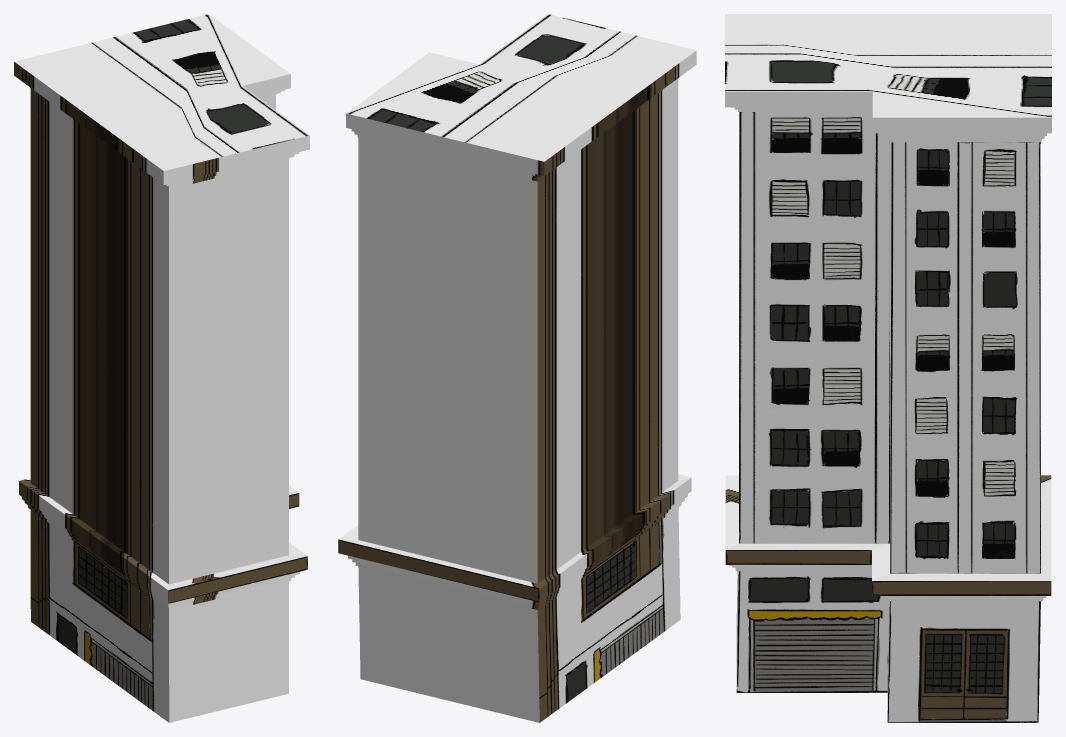
The model's file is predio1.glb.
3 views of the same model, side by side, from view 1: azimuth 30°, elevation 25°; view 2: azimuth 150°, elevation 25°; view 3: azimuth 270°, elevation 25° (orthographic). The views are drawn at different scales.
Visible parts, largest first — view 1: Cube; view 2: Cube; view 3: Cube.
Boxes of the visible parts, x1,y1,x2,y2 form: Cube: (14,14,309,722); Cube: (338,14,696,722); Cube: (725,14,1051,722).
Size of the model in its own units: 1.75 by 4.6 by 2.24.
Materials: 1 (1 with a texture image).
